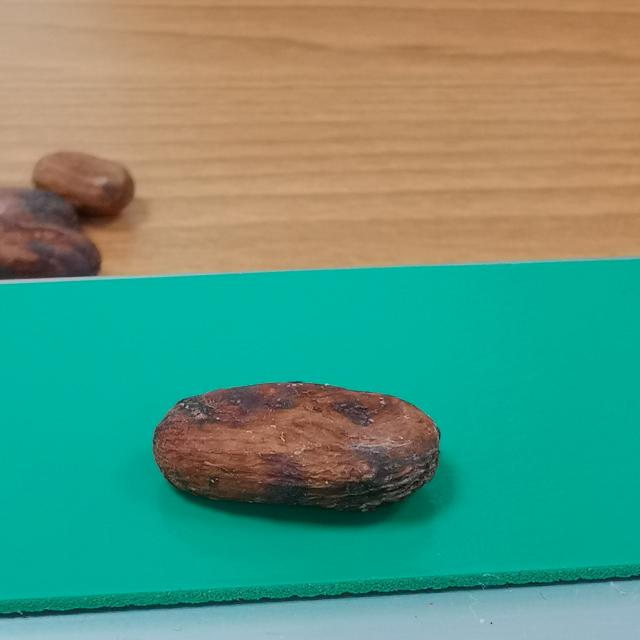Fine_cocoabeans: (95, 344, 527, 569)
